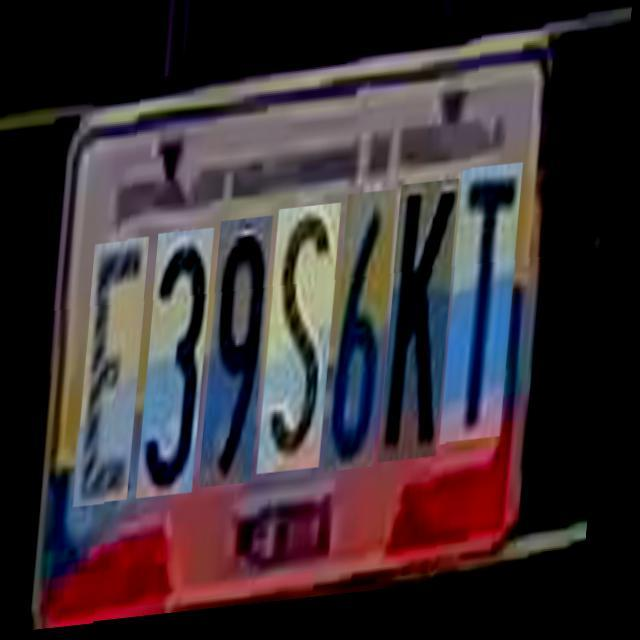3: (145, 232, 220, 502)
6: (334, 199, 402, 481)
9: (208, 222, 279, 493)
E: (83, 240, 155, 508)
K: (388, 190, 464, 472)
S: (266, 211, 347, 481)
T: (448, 177, 528, 456)
